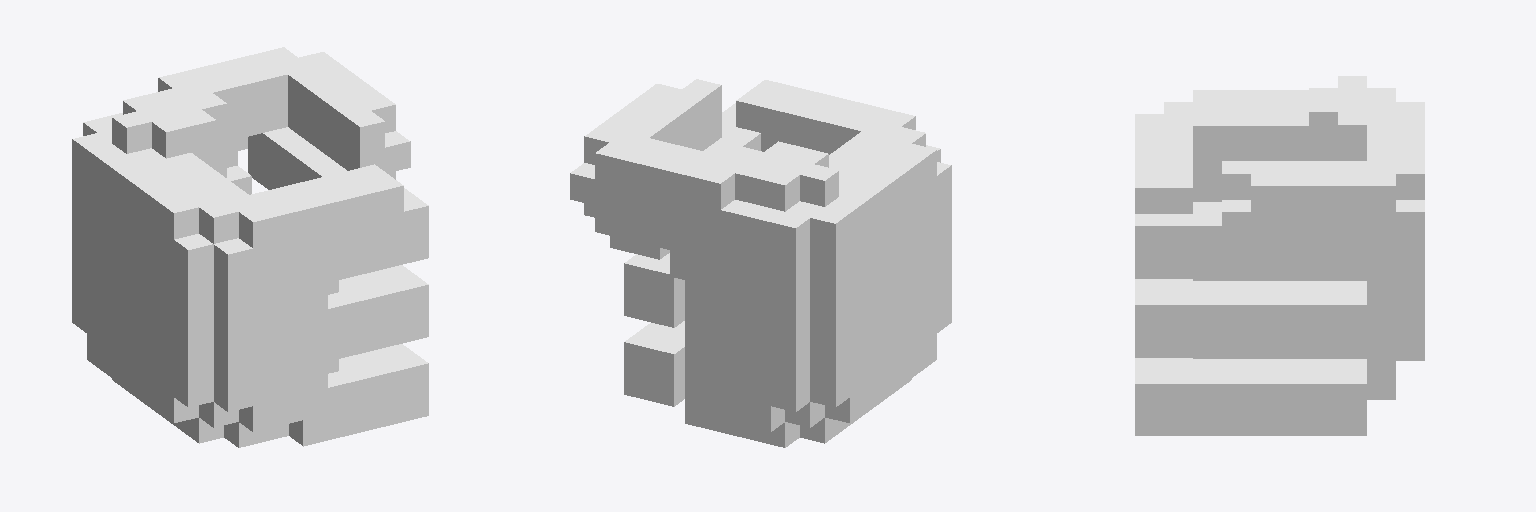
The model's file is Garlic_L_Hand.obj.
3 renders of one model, left to right at view 1: azimuth 30°, elevation 25°; view 2: azimuth 150°, elevation 25°; view 3: azimuth 270°, elevation 25°, orthographic.
Parts seen in each view (by area): view 1: object 1; view 2: object 1; view 3: object 1.
Part boxes in pixels (left/top/right/bottom): object 1: left=72, top=47, right=428, bottom=447; object 1: left=570, top=79, right=951, bottom=447; object 1: left=1135, top=76, right=1424, bottom=435.
Bounding box in the file's own units: 1 × 1 × 1.